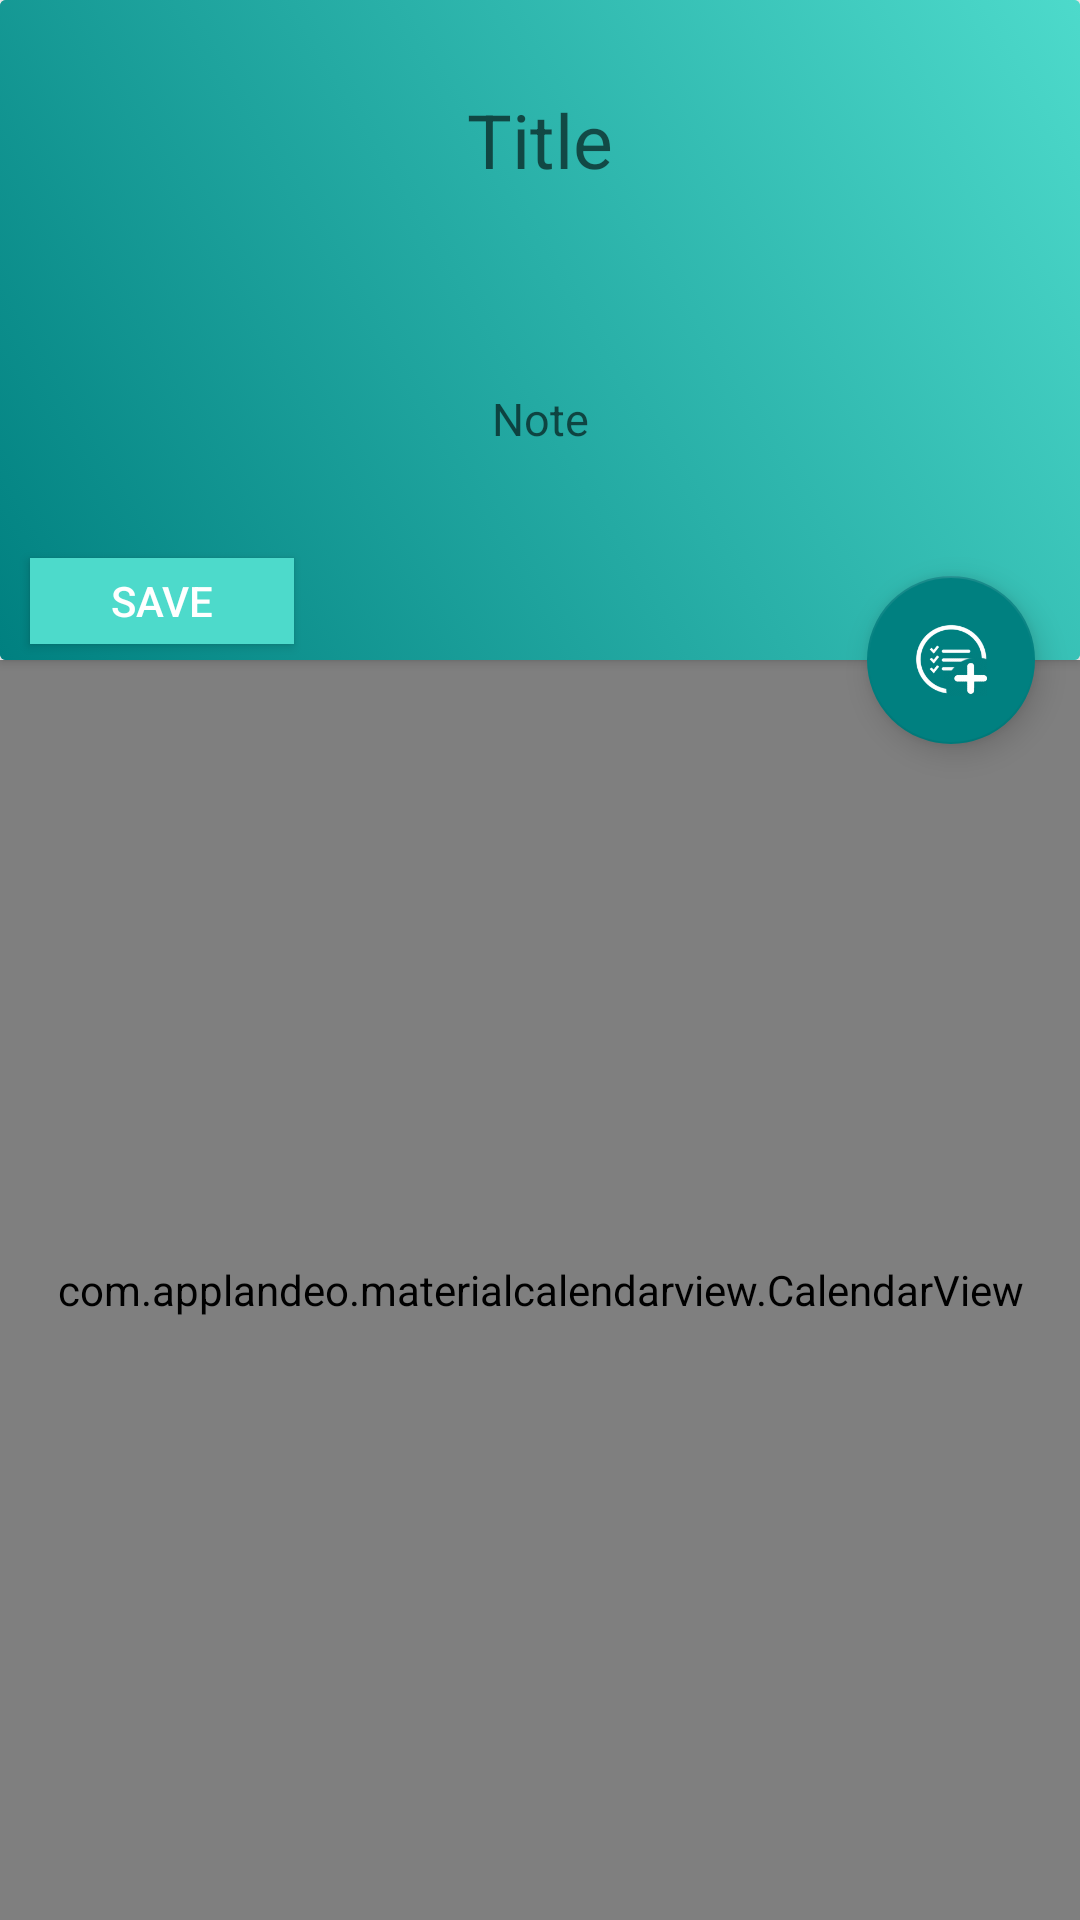

Point at icon controls on the screen. Image size 1080 × 1920, points as (x,y).
add tasks: (951,660)
